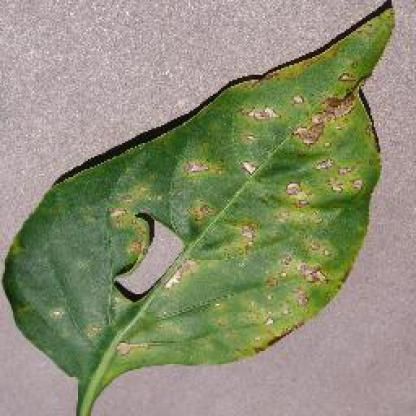bad leaf: (59, 64, 376, 373)
